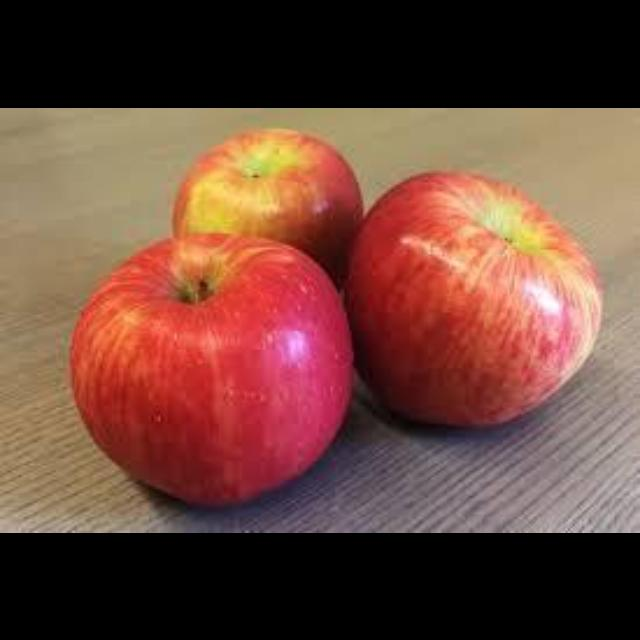apple: (70, 233, 351, 503), (344, 172, 600, 424), (172, 128, 361, 284)
